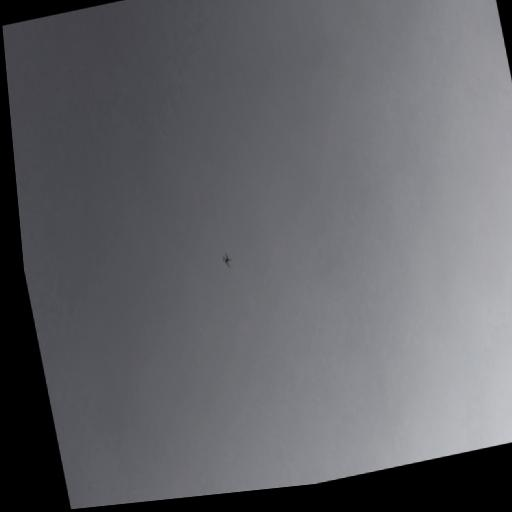drones: (221, 250, 234, 269)
